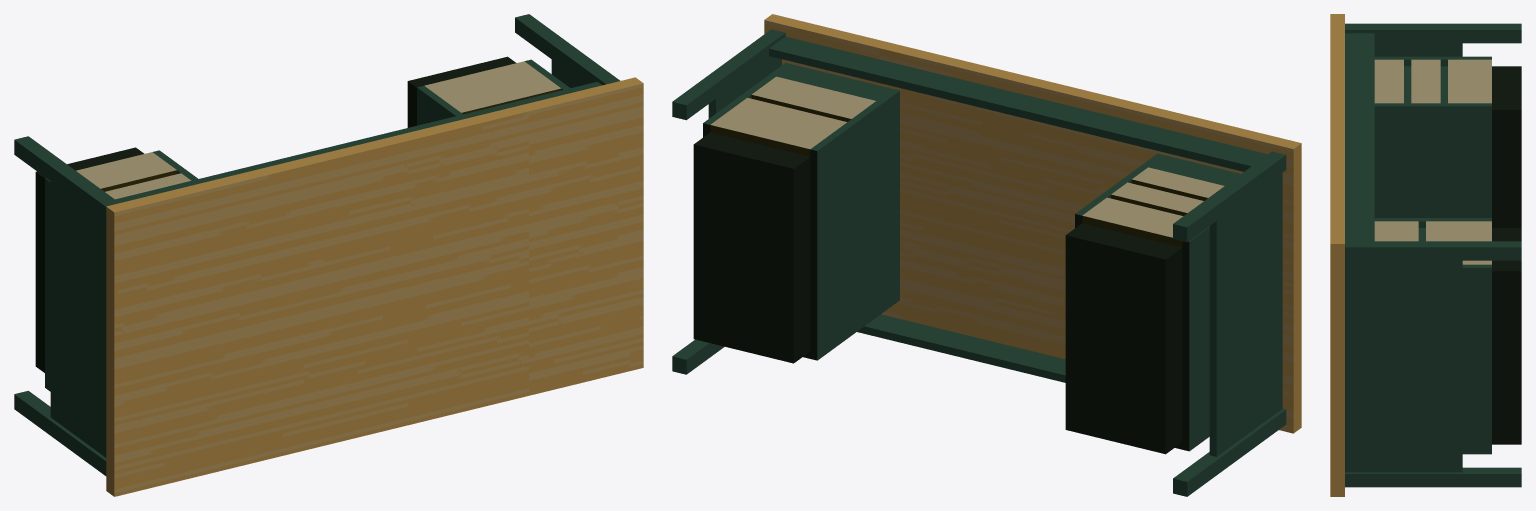
File: prop_desk_01.glb
The picture shows the model from 3 angles, left to right: view 1: azimuth 30°, elevation 25°; view 2: azimuth 150°, elevation 25°; view 3: azimuth 270°, elevation 25°; orthographic projection. The views are drawn at different scales.
Parts seen in each view (by area): view 1: prop_desk_01; view 2: prop_desk_01; view 3: prop_desk_01.
Boxes of the visible parts, x1,y1,x2,y2 form: prop_desk_01: [14, 14, 643, 496]; prop_desk_01: [672, 14, 1301, 496]; prop_desk_01: [1330, 14, 1521, 496].
Bounding box in the file's own units: 148 × 76 × 52.
7 materials, 7 textured.
